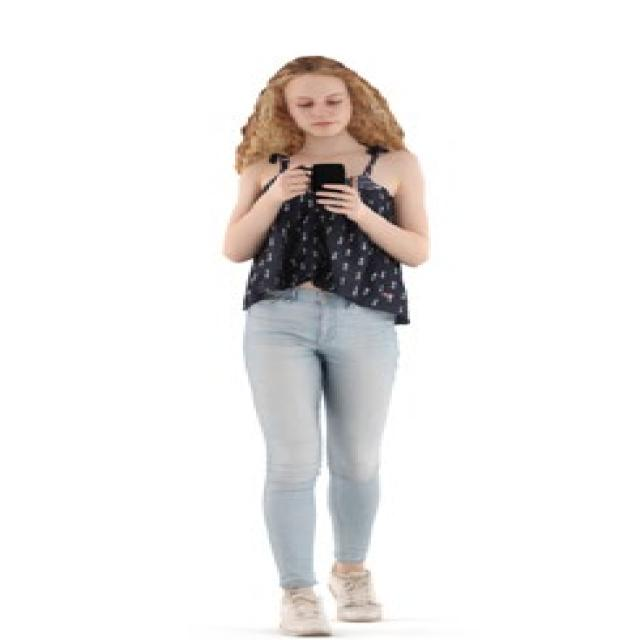standing: (216, 50, 428, 640)
